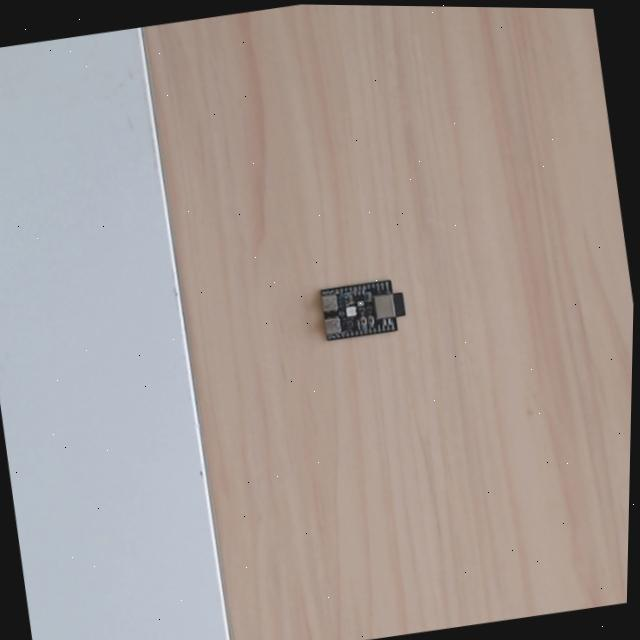ESP32C3-DevKit: (318, 273, 411, 342)
